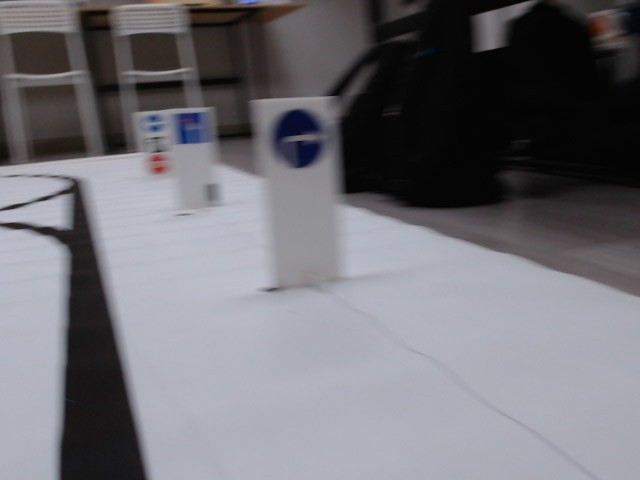Right: (269, 108, 328, 169)
